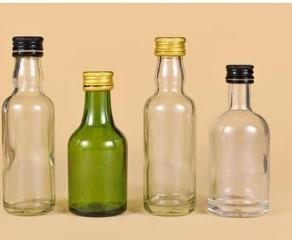glass: (0, 34, 58, 219), (205, 62, 273, 219), (141, 34, 198, 216), (66, 68, 130, 218)
